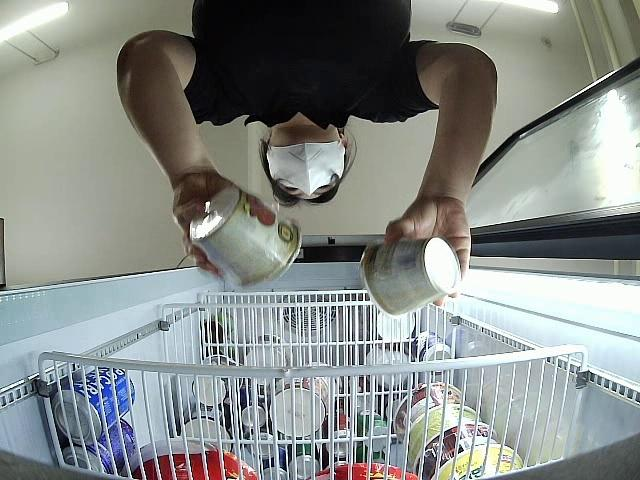00_hand: (383, 197, 471, 307), (171, 173, 241, 274)
04_chapagetti_S: (190, 186, 301, 294), (360, 236, 461, 317)
